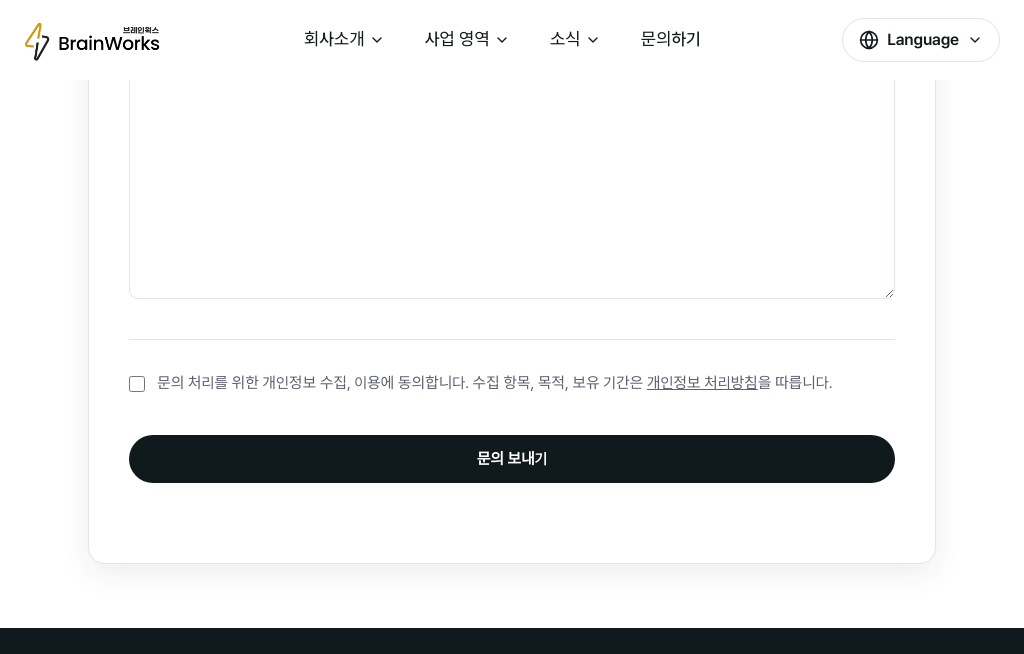
Test: 문의 폼 › 필수 입력이 비면 서버로 보내지 않고 필드 오류를 보여준다
(page scrolled)
Click the checkbox.
click(137, 384)  # box [129,376,145,392]
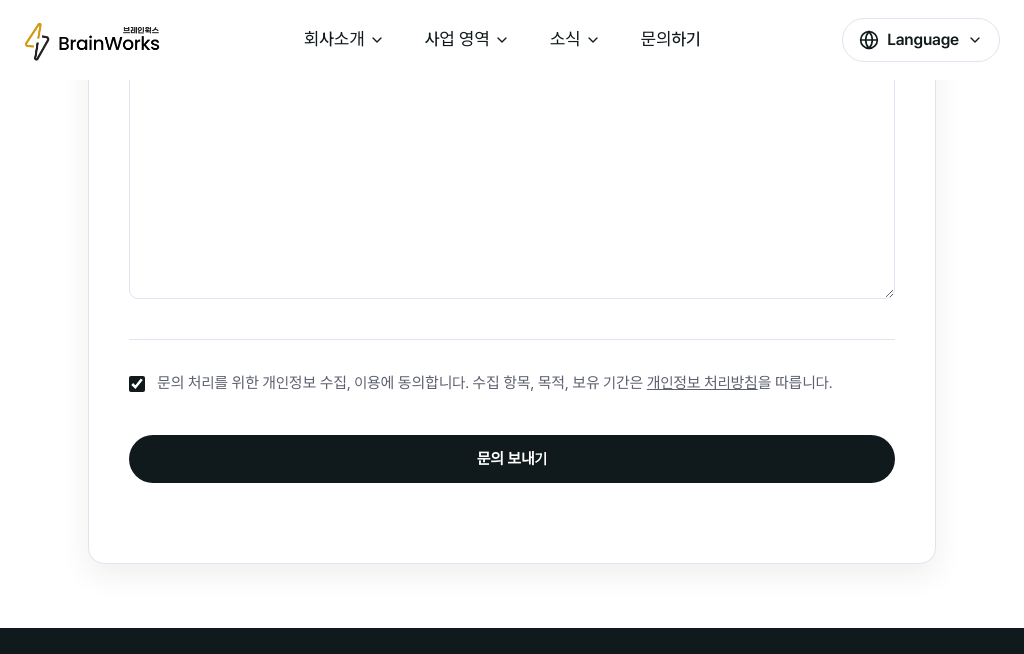
Click the button "문의 보내기".
click(512, 459)  # box [129,435,895,483]
(page scrolled)
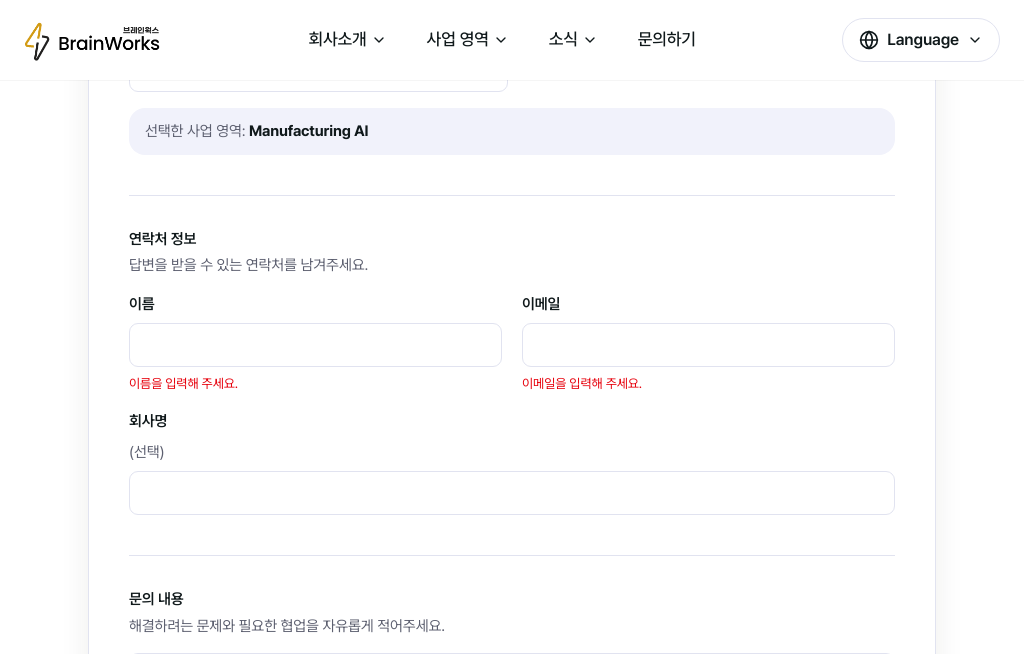
Expected: the message "이름을 입력해 주세요." is shown, [129,376,238,391]
